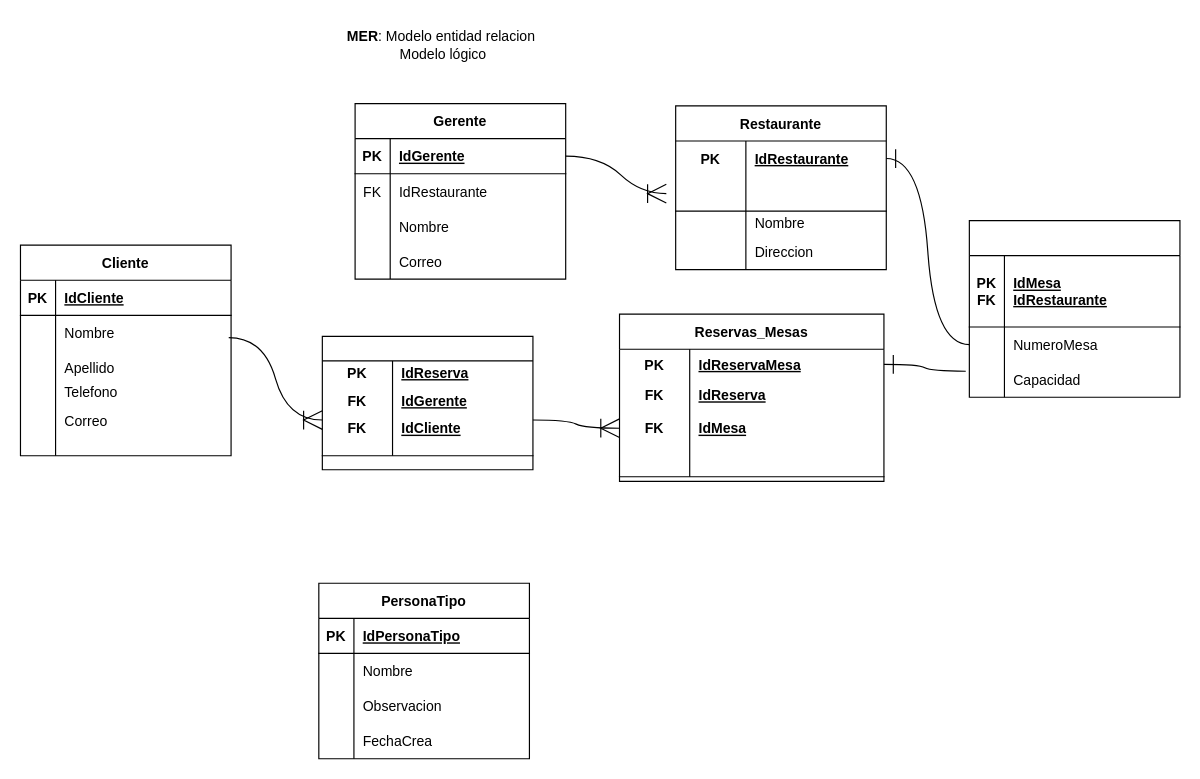
The diagram is 1200 pixels wide and 779 high, and some of its shapes have lost their labels. Here are the shapes that lost their labels. From the top down, the box of each, then its label:
(968, 219, 1180, 397): Mesas
(321, 335, 533, 470): Reservas
